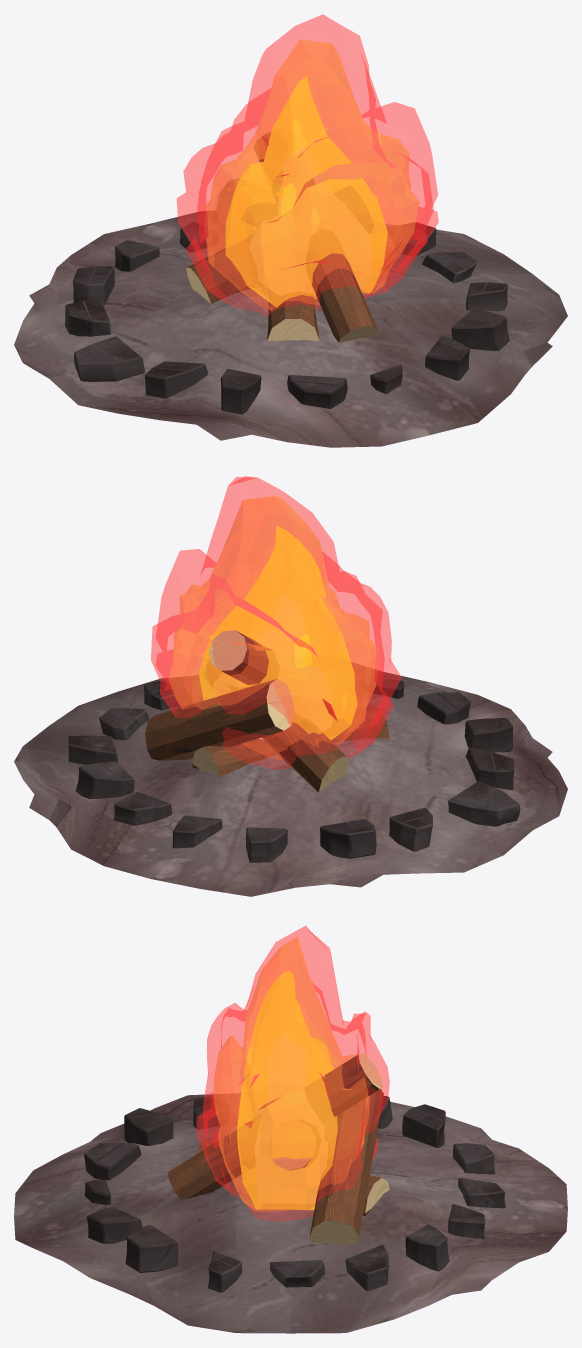
Rendered from furn_campfire.glb.
3 renders of one model, top to bottom at view 1: azimuth 30°, elevation 25°; view 2: azimuth 150°, elevation 25°; view 3: azimuth 270°, elevation 25°, orthographic.
Parts seen in each view (by area): view 1: polySurface7_dirt_0, polySurface3_orange_fire_0, polySurface10_rock_0, polySurface6_logg_0, polySurface6_logwood_0; view 2: polySurface7_dirt_0, polySurface3_orange_fire_0, polySurface10_rock_0, polySurface6_logg_0, polySurface6_logwood_0; view 3: polySurface7_dirt_0, polySurface3_orange_fire_0, polySurface10_rock_0, polySurface6_logg_0, polySurface6_logwood_0.
Boxes of the visible parts, <box> form: polySurface7_dirt_0: <box>14,211,567,447</box>; polySurface3_orange_fire_0: <box>176,14,438,316</box>; polySurface10_rock_0: <box>65,222,509,414</box>; polySurface6_logg_0: <box>187,132,394,342</box>; polySurface6_logwood_0: <box>186,179,377,342</box>; polySurface7_dirt_0: <box>14,663,567,896</box>; polySurface3_orange_fire_0: <box>151,476,401,769</box>; polySurface10_rock_0: <box>68,679,520,862</box>; polySurface6_logg_0: <box>145,631,389,792</box>; polySurface6_logwood_0: <box>192,630,348,792</box>; polySurface7_dirt_0: <box>14,1093,567,1333</box>; polySurface3_orange_fire_0: <box>196,925,389,1221</box>; polySurface10_rock_0: <box>84,1096,505,1292</box>; polySurface6_logg_0: <box>167,1055,383,1236</box>; polySurface6_logwood_0: <box>272,1052,389,1244</box>.
Bounding box in the file's own units: 17.36 × 10.45 × 17.36.
5 materials, 5 textured.
